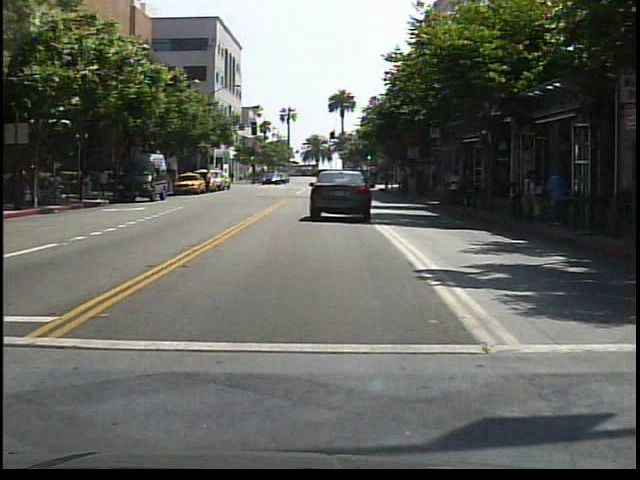person: (445, 168, 466, 211)
